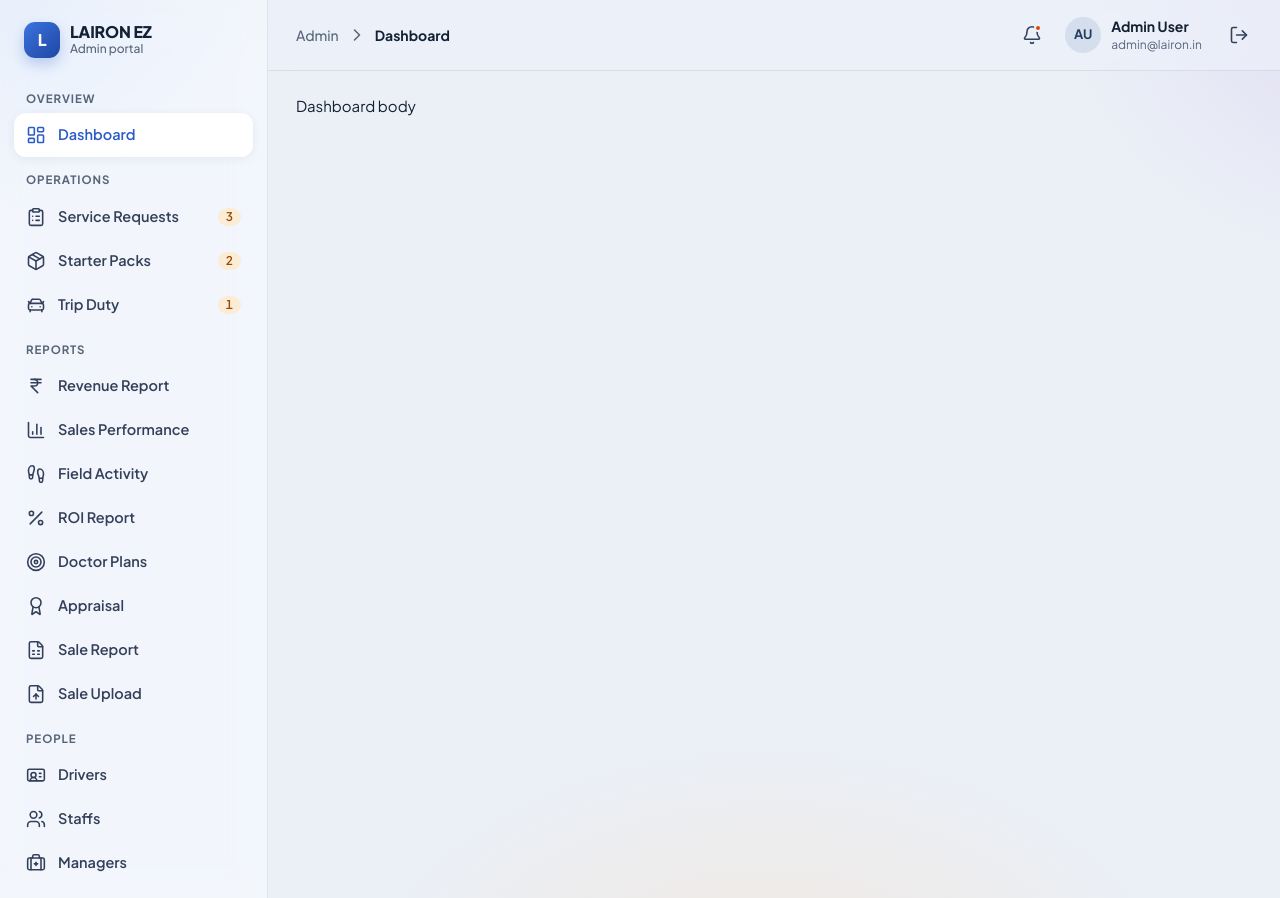
Test: AdminLayout › opens a notification dropdown, marks all read, and clears them on close
Click the button named "Notifications, 3 new" at (1032, 35), box left=1011, top=14, right=1053, bottom=56
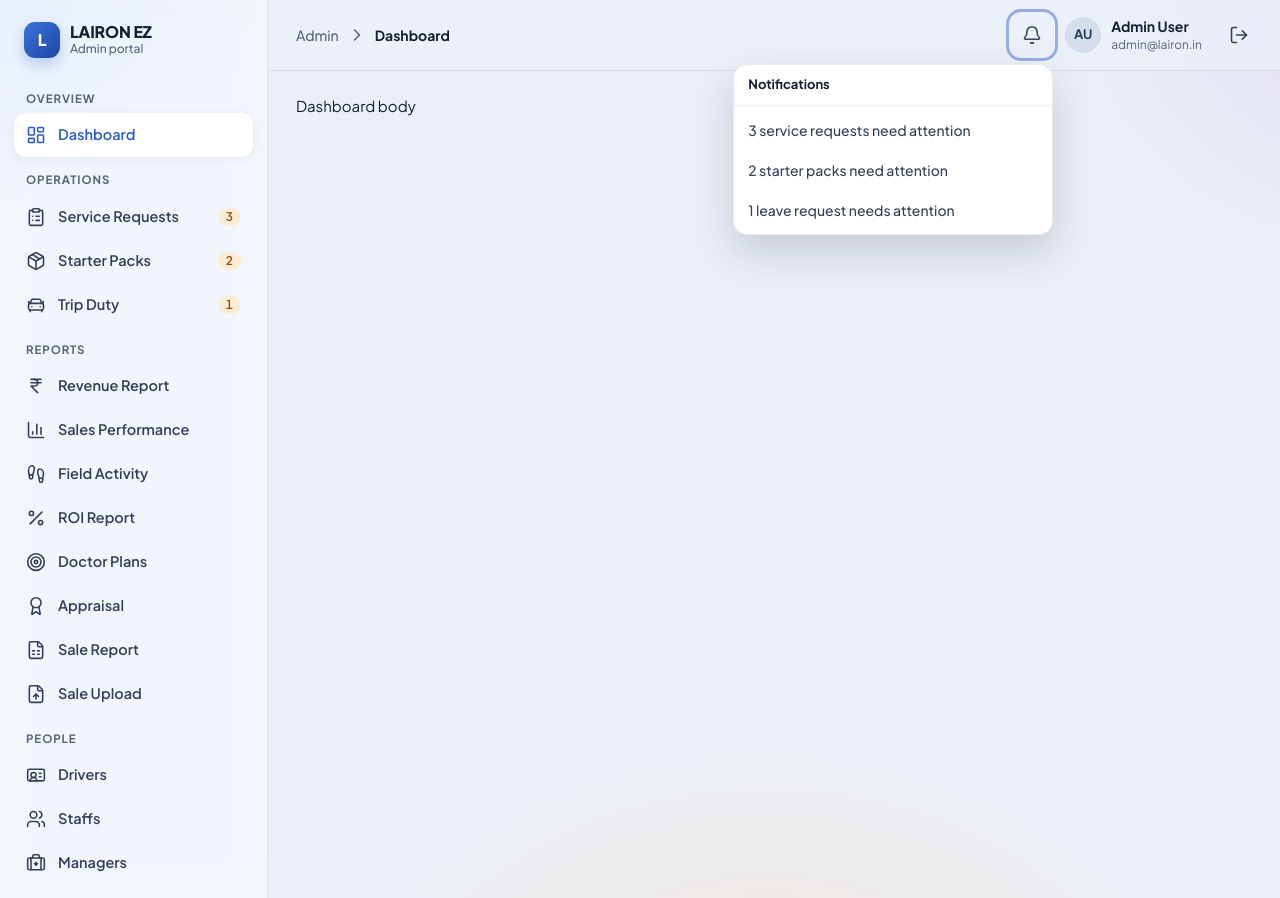
Expected: the menu item "3 service requests need attention" is shown, left=748, top=120, right=971, bottom=138
Expected: the menu item "2 starter packs need attention" is shown, left=748, top=160, right=948, bottom=178
Expected: the menu item "1 leave request needs attention" is shown, left=748, top=200, right=955, bottom=218
Click the text "Dashboard body" at (356, 106), box left=296, top=96, right=416, bottom=115
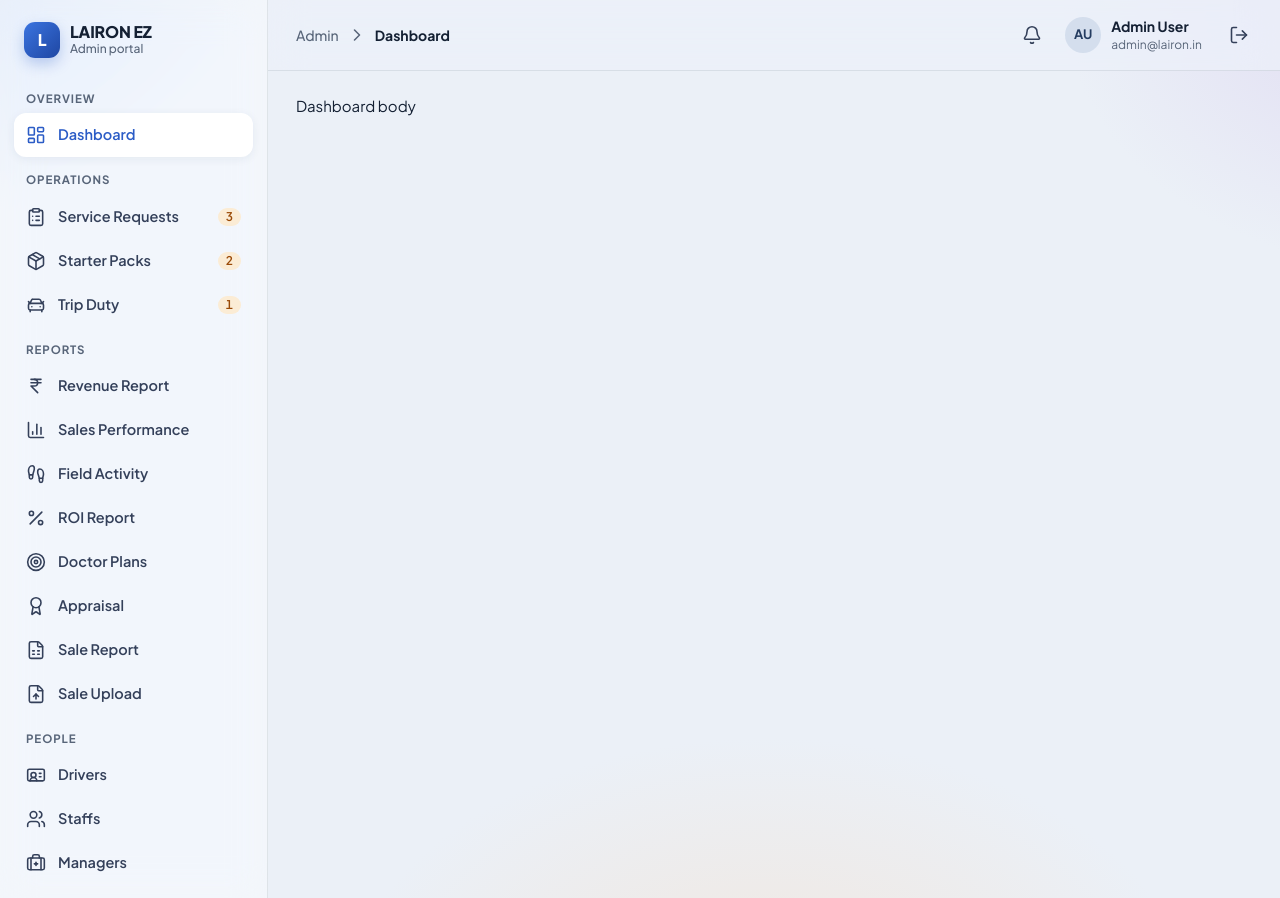
Expected: the text "Notifications" is gone
Click the button named "Notifications" at (1032, 35), box left=1011, top=14, right=1053, bottom=56
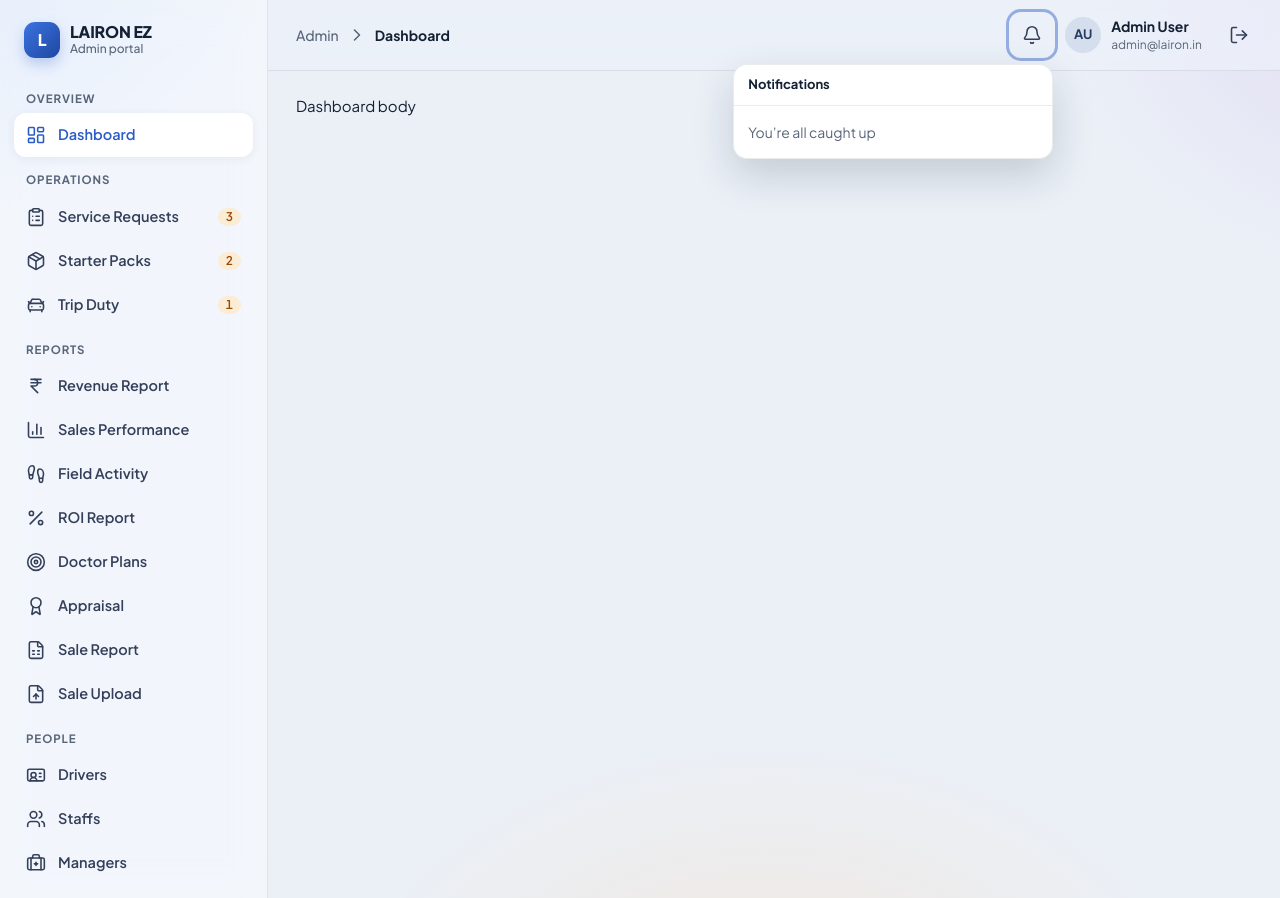
Expected: the text "You’re all caught up" is shown, left=748, top=122, right=876, bottom=140
